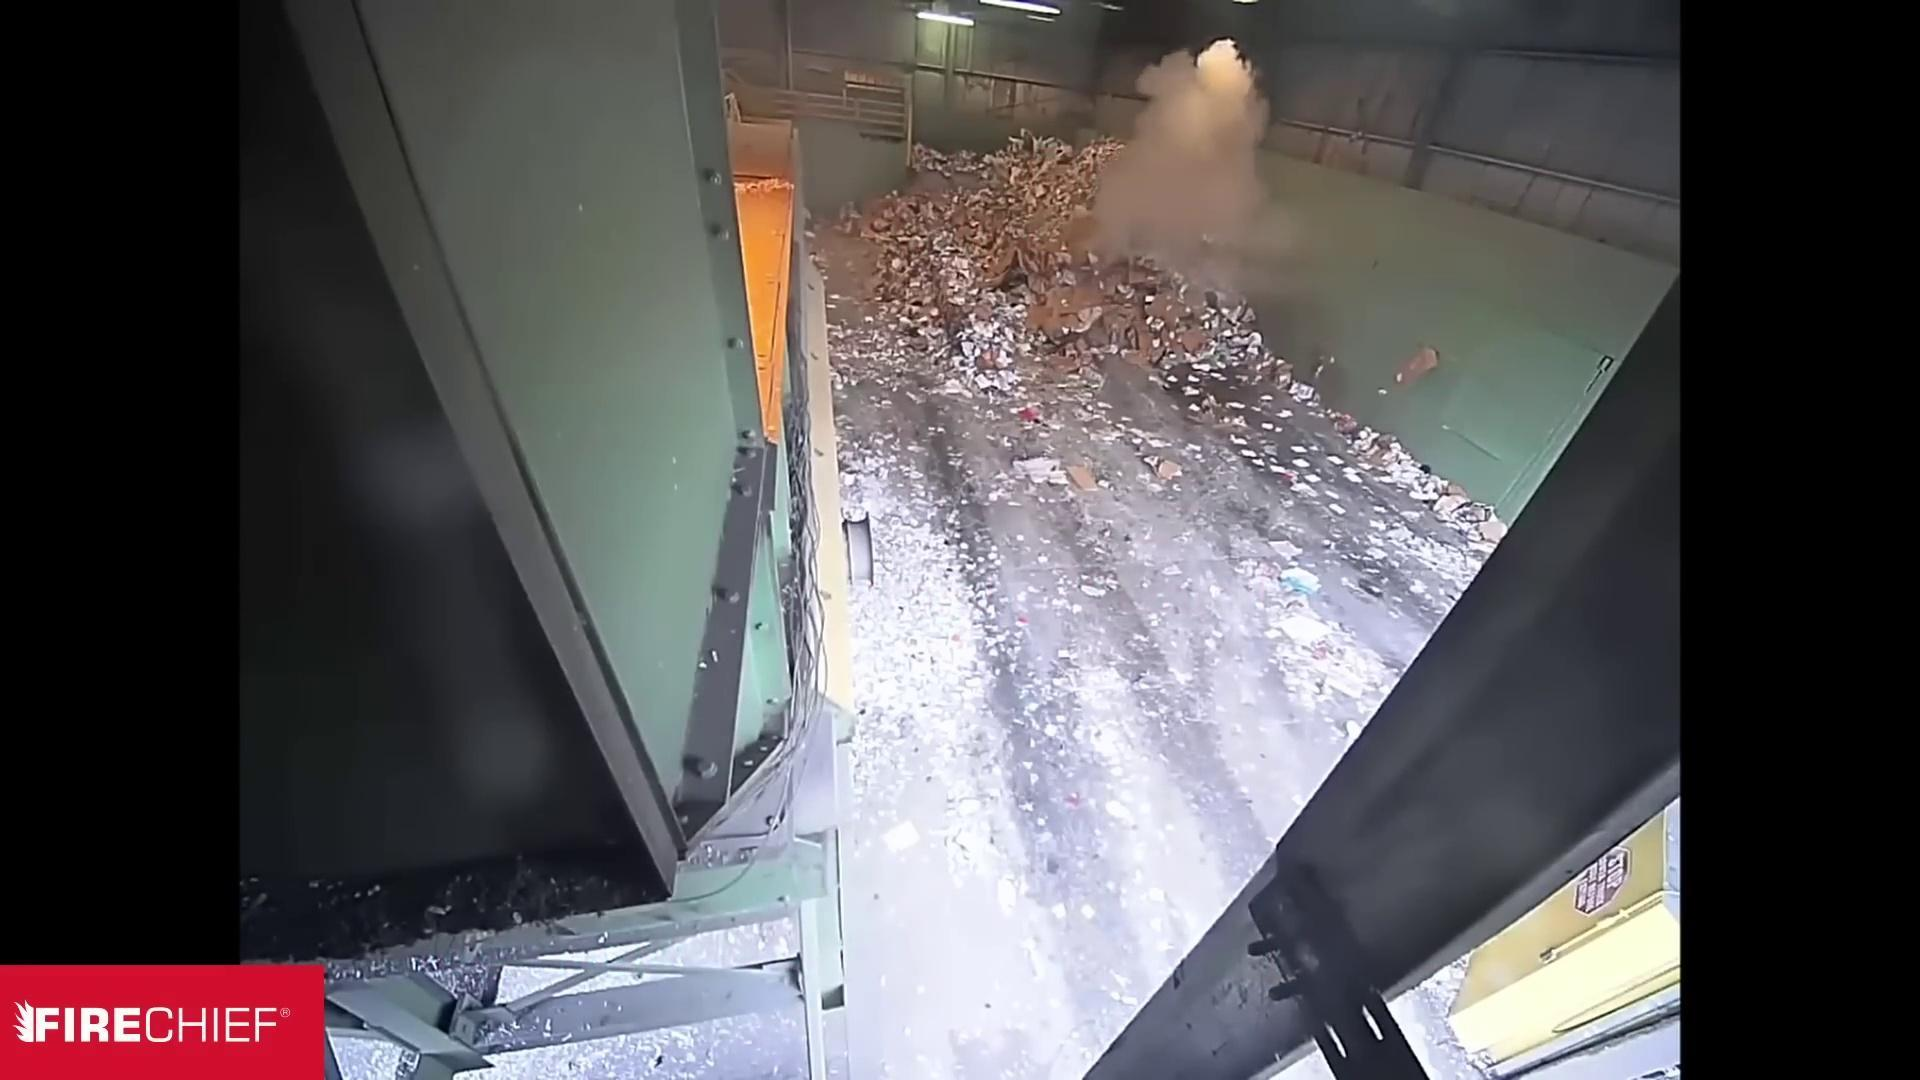smoke: (1002, 26, 1346, 313)
